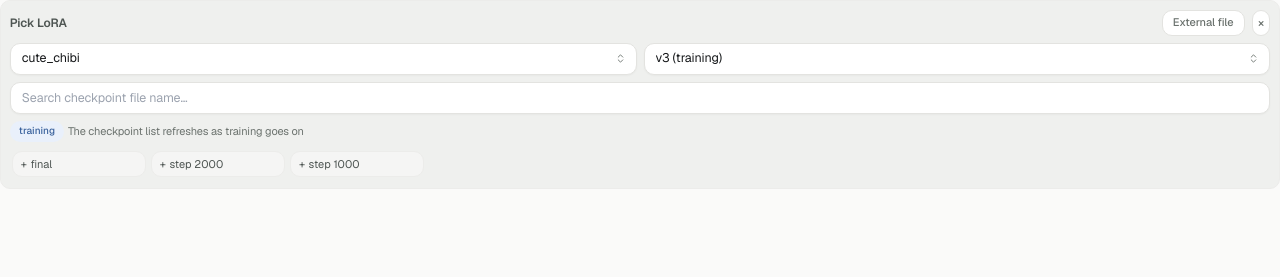
Test: InlineLoraPicker — multi mode (default) › changing project resets picked
The image size is (1280, 277).
Expected: the text "step 2000" is shown, [170,157,223,171]
Click the button "+ step 2000" at (218, 164), box [151,151,285,177]
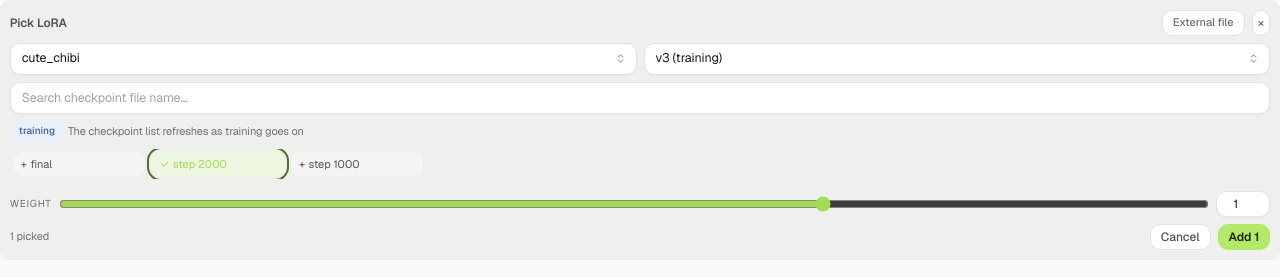
Expected: the text "1 picked" is shown, [10,229,49,244]
Select "noir_portrait" in the dropdown named "Pick a project" at (323, 59), box [10,43,637,75]
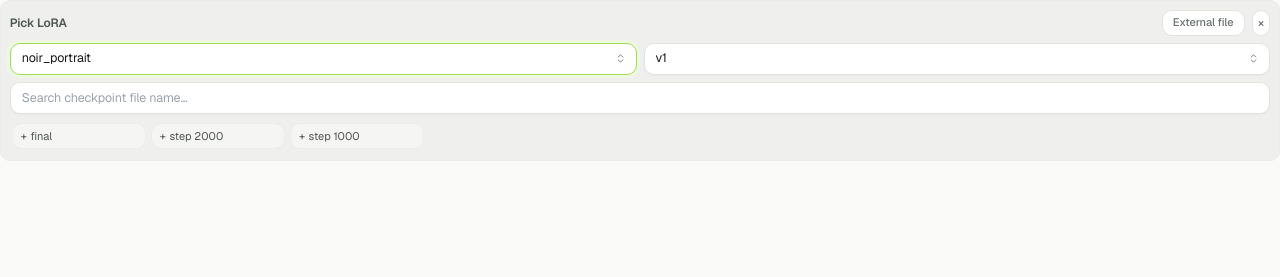
Expected: the text "1 picked" is gone
